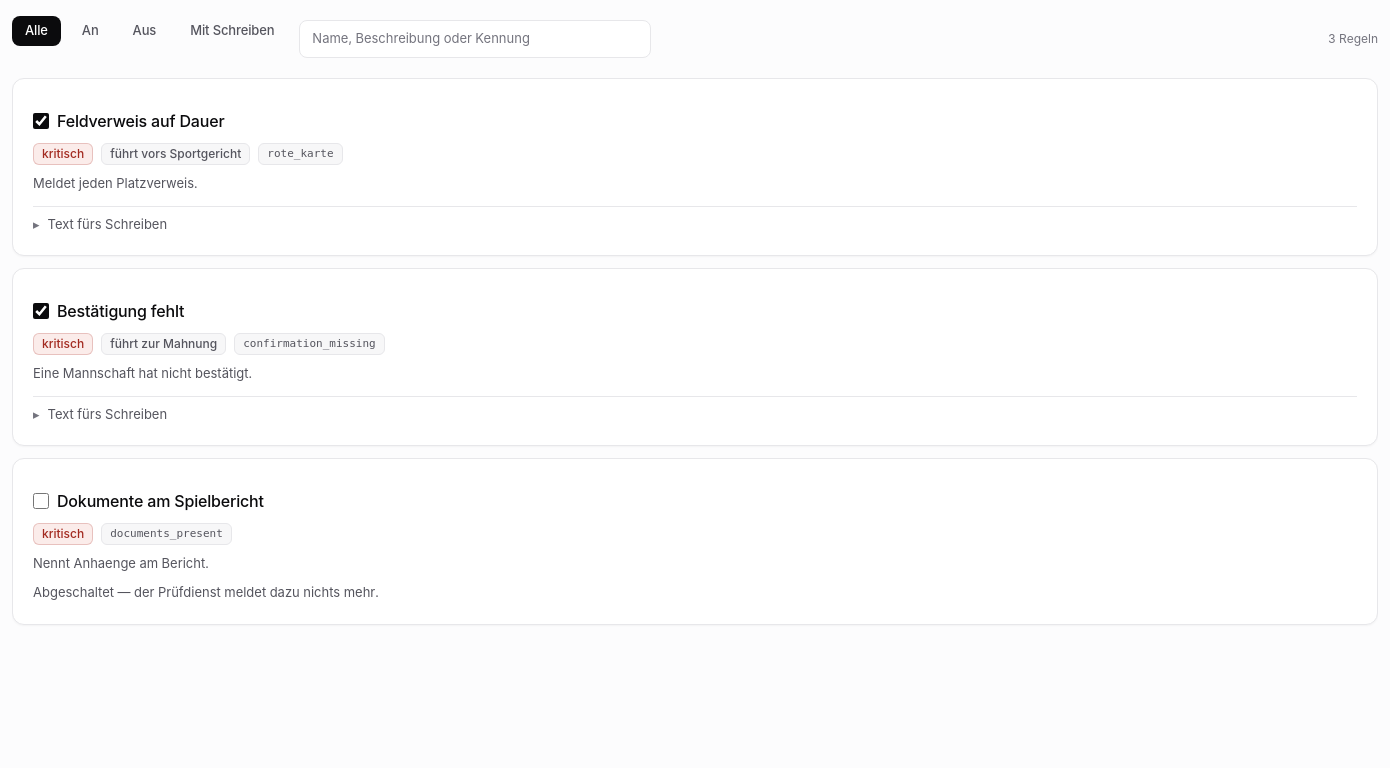
Einschränken › sucht im Namen
Type "Feldverweis" into the search field named "Suchen". click: (475, 39)
box: [299,20,651,58]
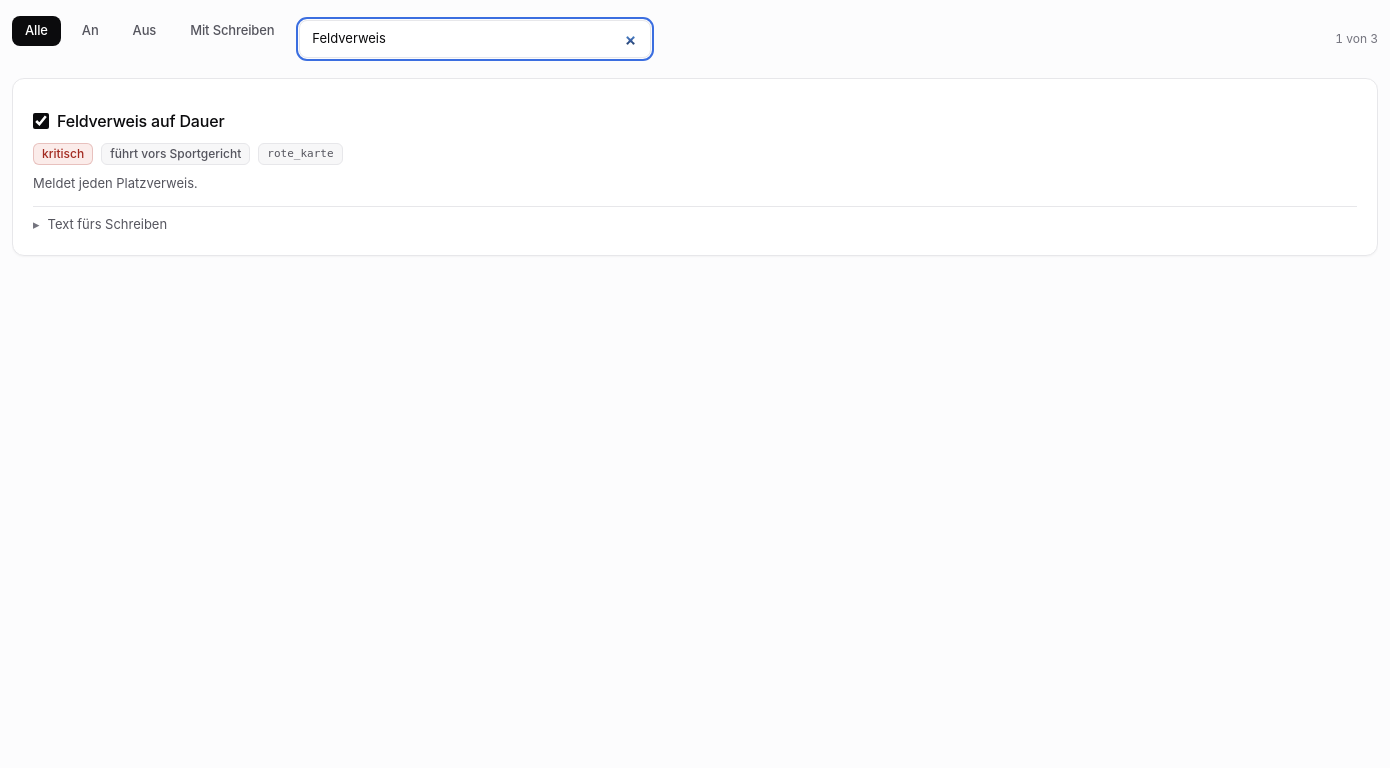
Expected: the text "1 von 3" is shown, [1335,30,1378,48]
Expected: the text "Bestätigung fehlt" is gone
